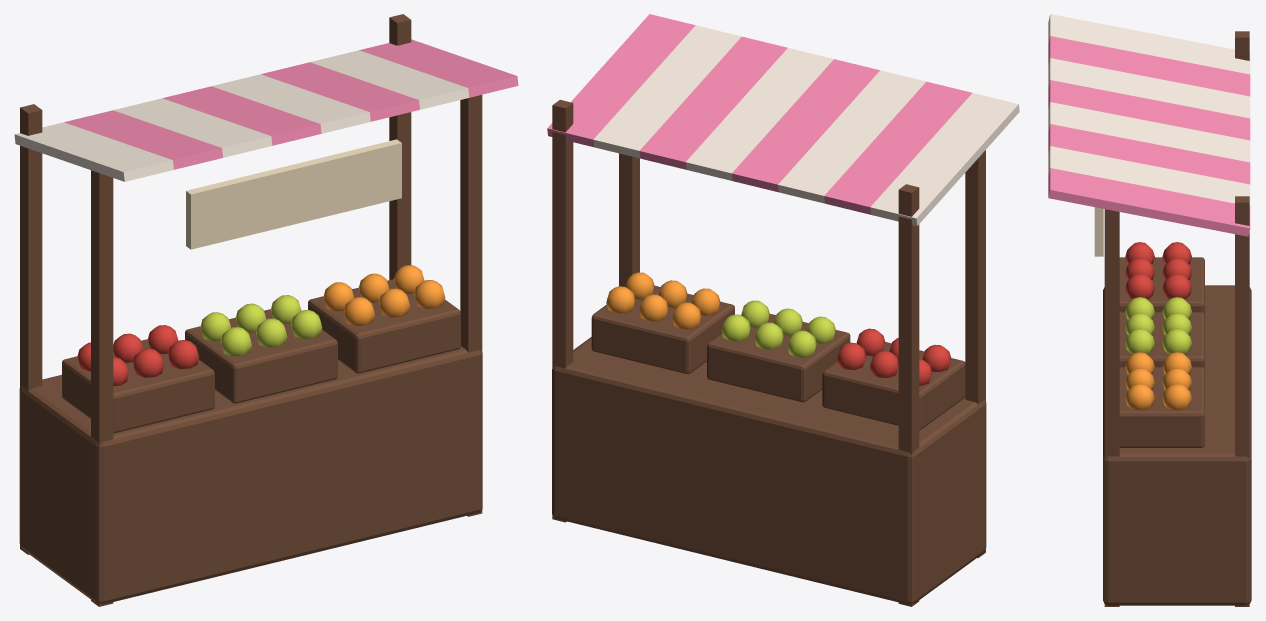
File: stall.glb
3 views of the same model, side by side, from view 1: azimuth 30°, elevation 25°; view 2: azimuth 150°, elevation 25°; view 3: azimuth 270°, elevation 25° (orthographic). The views are drawn at different scales.
Visible parts, largest first — view 1: stall; view 2: stall; view 3: stall.
Part boxes in pixels (x1,y1,x2,y2): stall: (14,14,518,606); stall: (547,14,1019,606); stall: (1048,14,1251,606).
Size of the model in its own units: 2.24 by 2.49 by 1.09.
